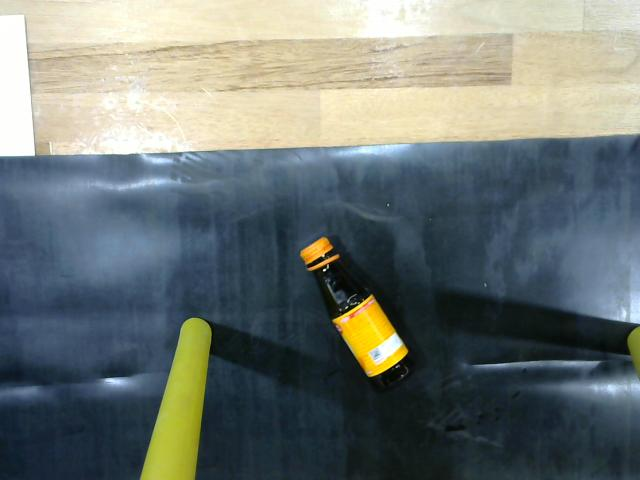glass: (297, 233, 424, 393)
